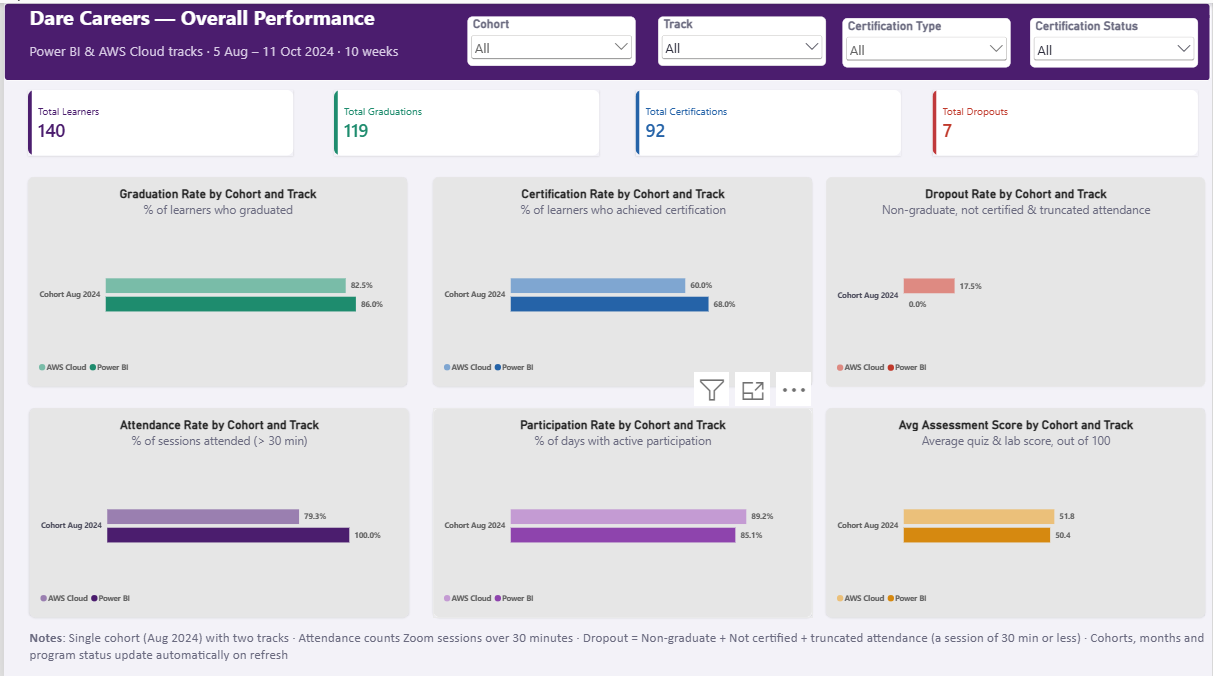

The page's visual inventory and layout, read from the dashboard file:
{"tool":"powerbi","page":{"name":"Overall Performance","canvas":[1920,1080],"ordinal":0},"visuals":[{"type":"shape","box":[0,0,1919.2,124.1],"z":0},{"type":"textbox","box":[40.6,0,725.3,124.1],"z":2000},{"type":"slicer","fields":{"Values":["Learners.Track"]},"box":[1040.3,21.5,267.2,78.7],"z":3000},{"type":"slicer","fields":{"Values":["Learners.Cohort"]},"box":[737.2,21.5,267,78.7],"z":4000},{"type":"slicer","fields":{"Values":["Learners.Certification Status"]},"box":[1632,23.9,267.2,78.7],"z":5000},{"type":"cardVisual","fields":{"Data":["_Measures.Total Certifications"]},"box":[1004.5,138.4,422.3,105],"z":6000},{"type":"cardVisual","fields":{"Data":["_Measures.Total Dropouts"]},"box":[1476.9,138.4,422.3,105],"z":7000},{"type":"cardVisual","fields":{"Data":["_Measures.Total Graduations"]},"box":[524.9,138.4,422.3,105],"z":8000},{"type":"cardVisual","fields":{"Data":["_Measures.Total Learners"]},"box":[38,138.4,422.3,105],"z":9000},{"type":"clusteredBarChart","fields":{"Category":["Learners.Cohort"],"Series":["Learners.Track"],"Y":["_Measures.Certification Rate"]},"box":[682.4,276.8,603.6,333],"z":10000},{"type":"clusteredBarChart","title":"Dropout Rate by Cohort and Track ","fields":{"Category":["Learners.Cohort"],"Series":["Learners.Track"],"Y":["_Measures.Dropout Rate"]},"box":[1307.5,276.8,603,333.7],"z":11000},{"type":"clusteredBarChart","fields":{"Category":["Learners.Cohort"],"Series":["Learners.Track"],"Y":["_Measures.Attendance Rate"]},"box":[40.6,644.2,603,333],"z":12000},{"type":"clusteredBarChart","fields":{"Category":["Learners.Cohort"],"Series":["Learners.Track"],"Y":["_Measures.Participation Rate"]},"box":[682.4,644.2,603,333],"z":13000},{"type":"clusteredBarChart","fields":{"Category":["Learners.Cohort"],"Series":["Learners.Track"],"Y":["_Measures.Avg Assessment Score"]},"box":[1307.5,644.2,603,333],"z":14000},{"type":"slicer","fields":{"Values":["Learners.Certification Type"]},"box":[1333.7,23.9,267,78.7],"z":15000},{"type":"clusteredBarChart","fields":{"Category":["Learners.Cohort"],"Series":["Learners.Track"],"Y":["_Measures.Graduation Rate"]},"box":[38.2,276.8,603.6,333],"z":16000},{"type":"textbox","box":[40.6,978.2,1877.7,102.6],"z":16001}]}

Visuals, with their boxes in screenshot pixels (x1, y1, x2, y2), scaled from the page's 1920x1080 canvas onto the 1213x676 screenshot:
shape: <box>0,0,1212,78</box>
textbox: <box>26,0,484,78</box>
slicer - Learners.Track: <box>657,13,826,63</box>
slicer - Learners.Cohort: <box>466,13,634,63</box>
slicer - Learners.Certification Status: <box>1031,15,1200,64</box>
cardVisual - _Measures.Total Certifications: <box>635,87,901,152</box>
cardVisual - _Measures.Total Dropouts: <box>933,87,1200,152</box>
cardVisual - _Measures.Total Graduations: <box>332,87,598,152</box>
cardVisual - _Measures.Total Learners: <box>24,87,291,152</box>
clusteredBarChart - Learners.Cohort x Learners.Track: <box>431,173,812,382</box>
"Dropout Rate by Cohort and Track " clusteredBarChart: <box>826,173,1207,382</box>
clusteredBarChart - Learners.Cohort x Learners.Track: <box>26,403,407,612</box>
clusteredBarChart - Learners.Cohort x Learners.Track: <box>431,403,812,612</box>
clusteredBarChart - Learners.Cohort x Learners.Track: <box>826,403,1207,612</box>
slicer - Learners.Certification Type: <box>843,15,1011,64</box>
clusteredBarChart - Learners.Cohort x Learners.Track: <box>24,173,405,382</box>
textbox: <box>26,612,1212,675</box>
